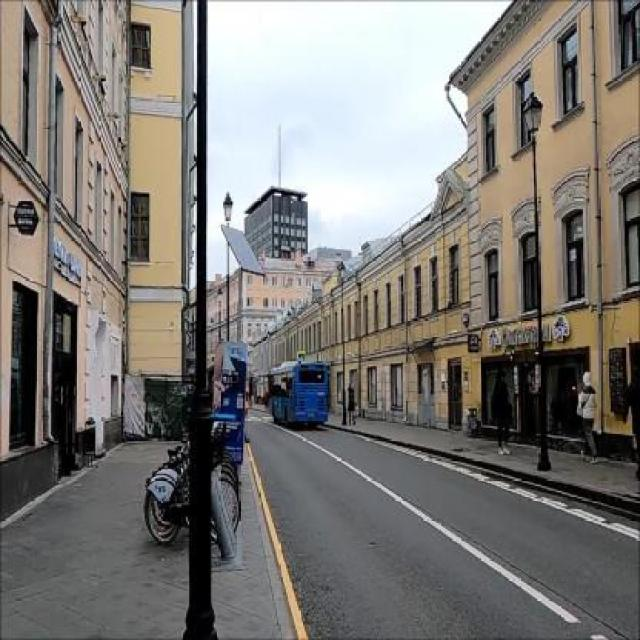bus: (269, 364, 330, 429)
